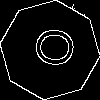O: (25, 25, 76, 69)
